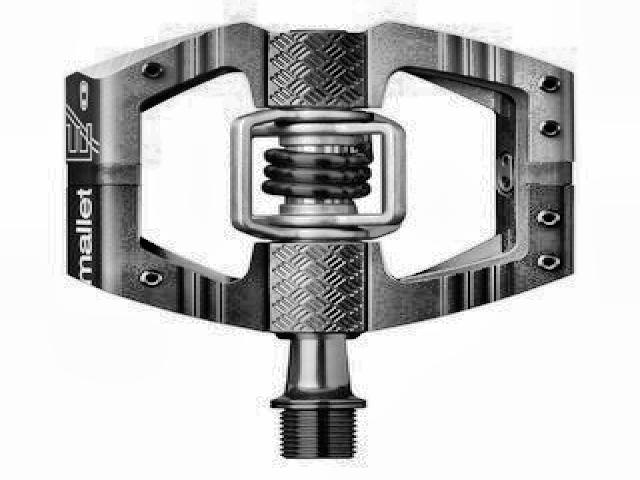pedal: (55, 20, 578, 460)
